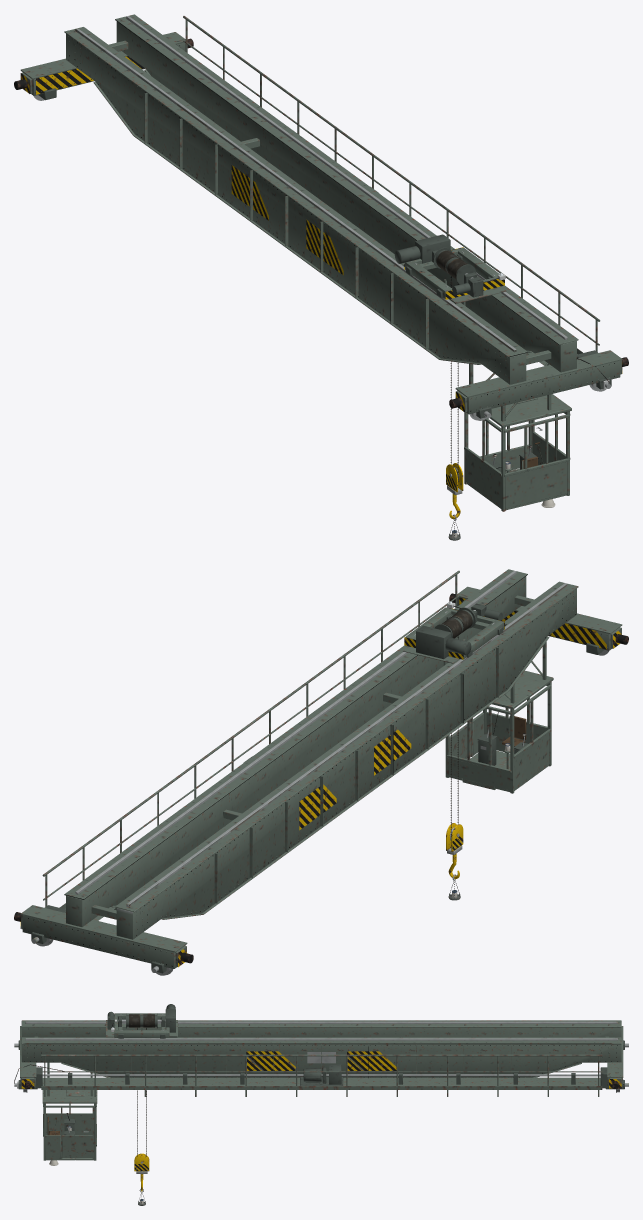
File: LSB_ENV_CRN_Crane_CR01_v01.fbx
3 renders of one model, top to bottom at view 1: azimuth 30°, elevation 25°; view 2: azimuth 150°, elevation 25°; view 3: azimuth 270°, elevation 25°, orthographic. The views are drawn at different scales.
Visible parts, largest first — view 1: CR01_Bridge, CR01_Trolley, CR01_Hook; view 2: CR01_Bridge, CR01_Trolley, CR01_Hook; view 3: CR01_Bridge, CR01_Trolley, CR01_Hook.
Boxes of the visible parts, x1=… form: CR01_Bridge: x1=14, y1=14, x2=628, y2=511; CR01_Trolley: x1=394, y1=234, x2=506, y2=305; CR01_Hook: x1=446, y1=463, x2=463, y2=540; CR01_Bridge: x1=14, y1=569, x2=628, y2=975; CR01_Trolley: x1=403, y1=601, x2=506, y2=665; CR01_Hook: x1=446, y1=823, x2=463, y2=900; CR01_Bridge: x1=14, y1=1020, x2=628, y2=1165; CR01_Trolley: x1=106, y1=1004, x2=177, y2=1038; CR01_Hook: x1=134, y1=1153, x2=149, y2=1205.
Size of the model in its own units: 3.8 by 5.85 by 17.1.
